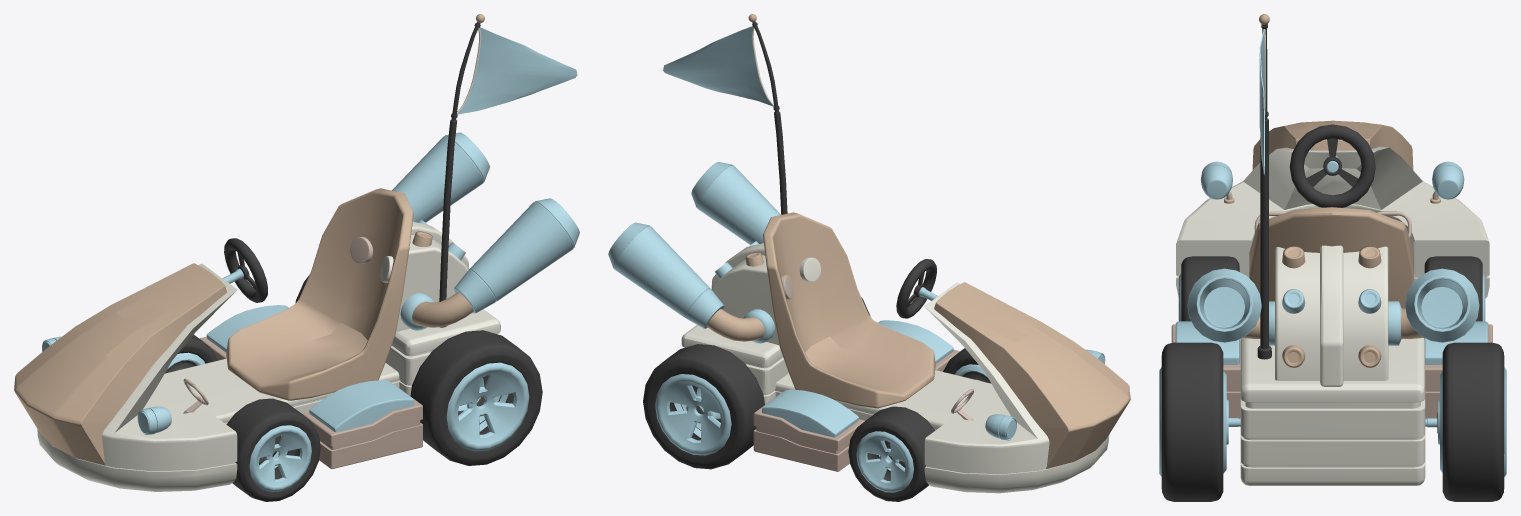
Rendered from GoKartColored.fbx.
3 views of the same model, side by side, from view 1: azimuth 30°, elevation 25°; view 2: azimuth 150°, elevation 25°; view 3: azimuth 270°, elevation 25° (orthographic). The views are drawn at different scales.
Parts seen in each view (by area): view 1: pCube2, polySurface3, polySurface2, pasted__pasted__pCylinder5, pasted__pasted__pasted__polySurface4, pasted__pasted__pasted__polySurface3, pPlane1, pCube3, pasted__pCube2, pasted__pCube1, pasted__pasted__pasted__pasted__polySurface7, pCube4 (+6 smaller); view 2: pCube2, polySurface3, polySurface2, pasted__pasted__pCylinder5, pasted__pasted__pasted__polySurface4, pasted__pasted__pasted__polySurface3, pPlane1, pCube3, pasted__pCube1, pasted__pCube2, pasted__pasted__pasted__pasted__pasted__polySurface7, pCylinder6 (+6 smaller); view 3: pCube4, pasted__pasted__pasted__polySurface4 (×2), polySurface2, pCylinder6, pasted__pasted__pCylinder5, pCube2, pasted__polySurface5, polySurface3, polySurface6, pCylinder14, pasted__pCube2, pasted__pCube1 (+12 smaller).
Part boxes in pixels (box(x1,y1,x2,y2)): pCube2: box(226, 188, 413, 400); polySurface3: box(14, 263, 226, 465); polySurface2: box(37, 263, 237, 491); pasted__pasted__pCylinder5: box(392, 132, 579, 313); pasted__pasted__pasted__polySurface4: box(410, 330, 542, 465); pasted__pasted__pasted__polySurface3: box(446, 362, 529, 451); pPlane1: box(457, 27, 577, 114); pCube3: box(143, 358, 400, 424); pasted__pCube2: box(206, 305, 414, 432); pasted__pCube1: box(200, 336, 422, 468); pasted__pasted__pasted__pasted__polySurface7: box(226, 398, 320, 501); pCube4: box(385, 309, 500, 395); pCube2: box(763, 212, 935, 408); polySurface3: box(934, 282, 1130, 468); polySurface2: box(924, 282, 1108, 493); pasted__pasted__pCylinder5: box(608, 162, 780, 328); pasted__pasted__pasted__polySurface4: box(643, 344, 764, 469); pasted__pasted__pasted__polySurface3: box(655, 374, 731, 455); pPlane1: box(663, 26, 773, 106); pCube3: box(774, 370, 1011, 430); pasted__pCube1: box(753, 349, 959, 471); pasted__pCube2: box(762, 320, 953, 437); pasted__pasted__pasted__pasted__pasted__polySurface7: box(848, 406, 935, 501); pCylinder6: box(711, 243, 779, 345); pCube4: box(1240, 338, 1425, 485); pasted__pasted__pasted__polySurface4 (×2): box(1161, 342, 1504, 501); polySurface2: box(1176, 146, 1489, 298); pCylinder6: box(1275, 245, 1388, 386); pasted__pasted__pCylinder5: box(1187, 268, 1479, 342); pCube2: box(1249, 207, 1413, 308); pasted__polySurface5: box(1289, 124, 1375, 207); polySurface3: box(1252, 120, 1413, 169); polySurface6: box(1257, 24, 1271, 359); pCylinder14: box(1200, 161, 1464, 199); pasted__pCube2: box(1175, 321, 1488, 364); pasted__pCube1: box(1171, 324, 1492, 418).
Bounding box in the file's own units: 12.76 × 9.67 × 6.08.
